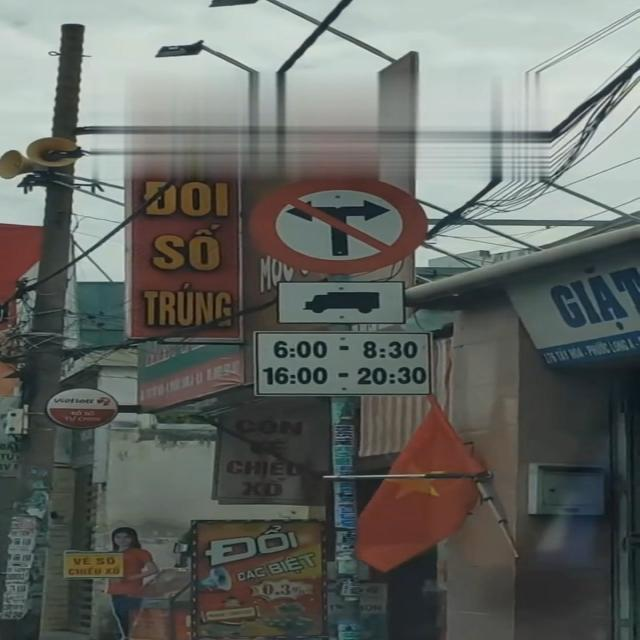137-cam-re-trai-va-re-phai: (252, 172, 428, 276)
